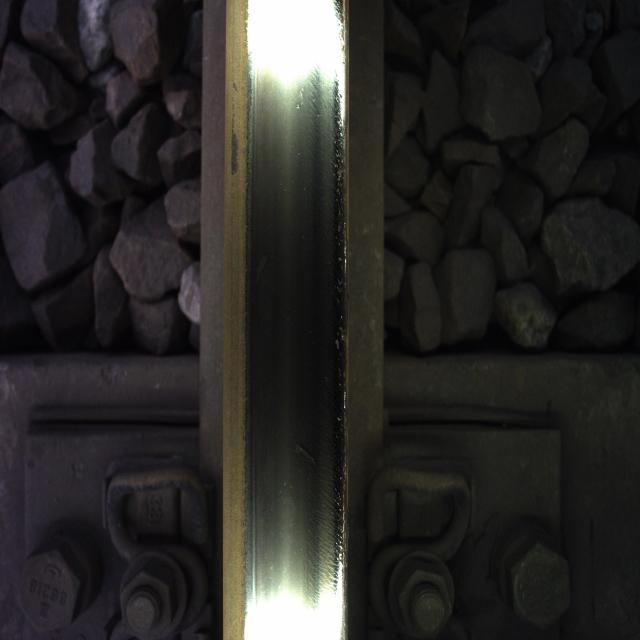normal: (250, 6, 340, 640)
